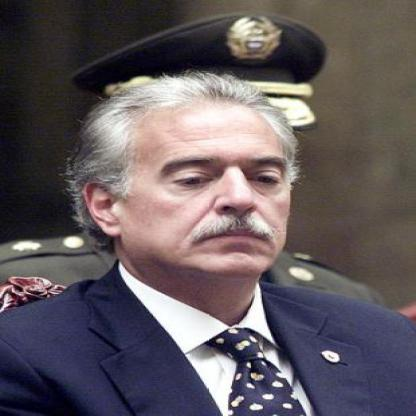face: (110, 82, 316, 285)
